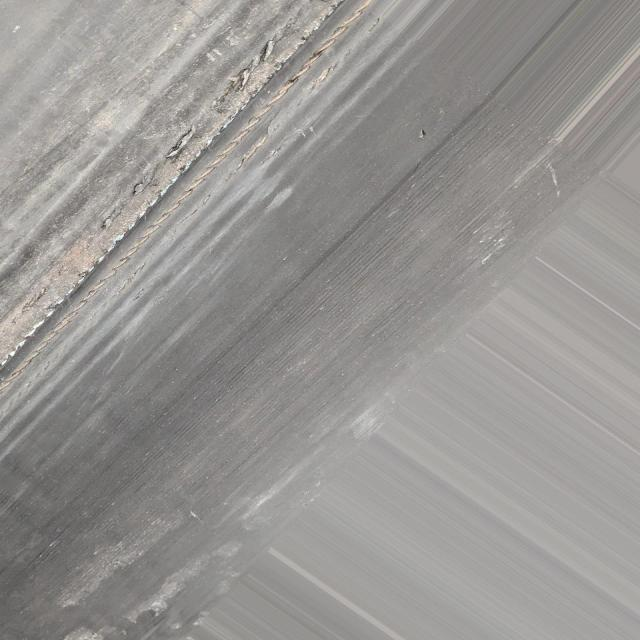impact damage: (0, 0, 386, 379)
